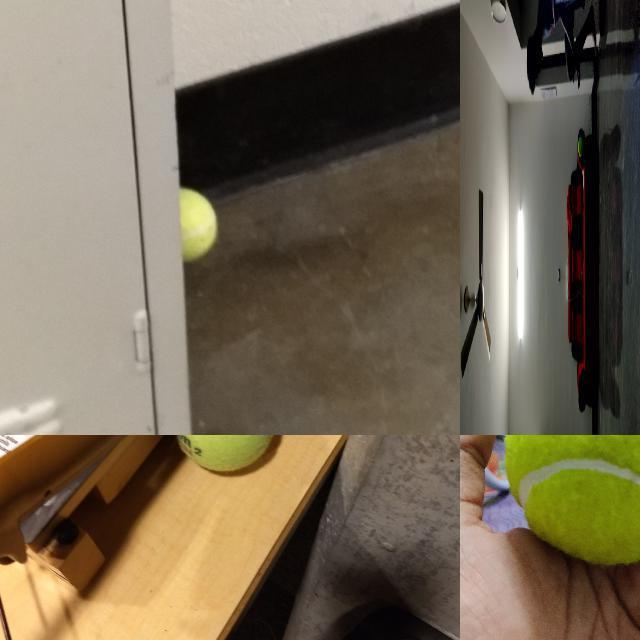tennis-ball: (502, 435, 639, 570), (171, 435, 277, 474), (184, 187, 218, 262), (578, 136, 583, 158)
